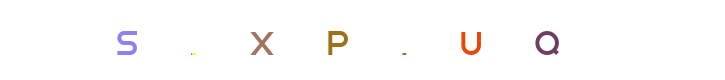0: (357, 0, 437, 80)
8: (274, 0, 354, 80)
P: (322, 0, 402, 80)
Q: (507, 0, 587, 80)
S: (86, 0, 166, 80)
U: (431, 0, 511, 80)
X: (298, 0, 378, 80)
